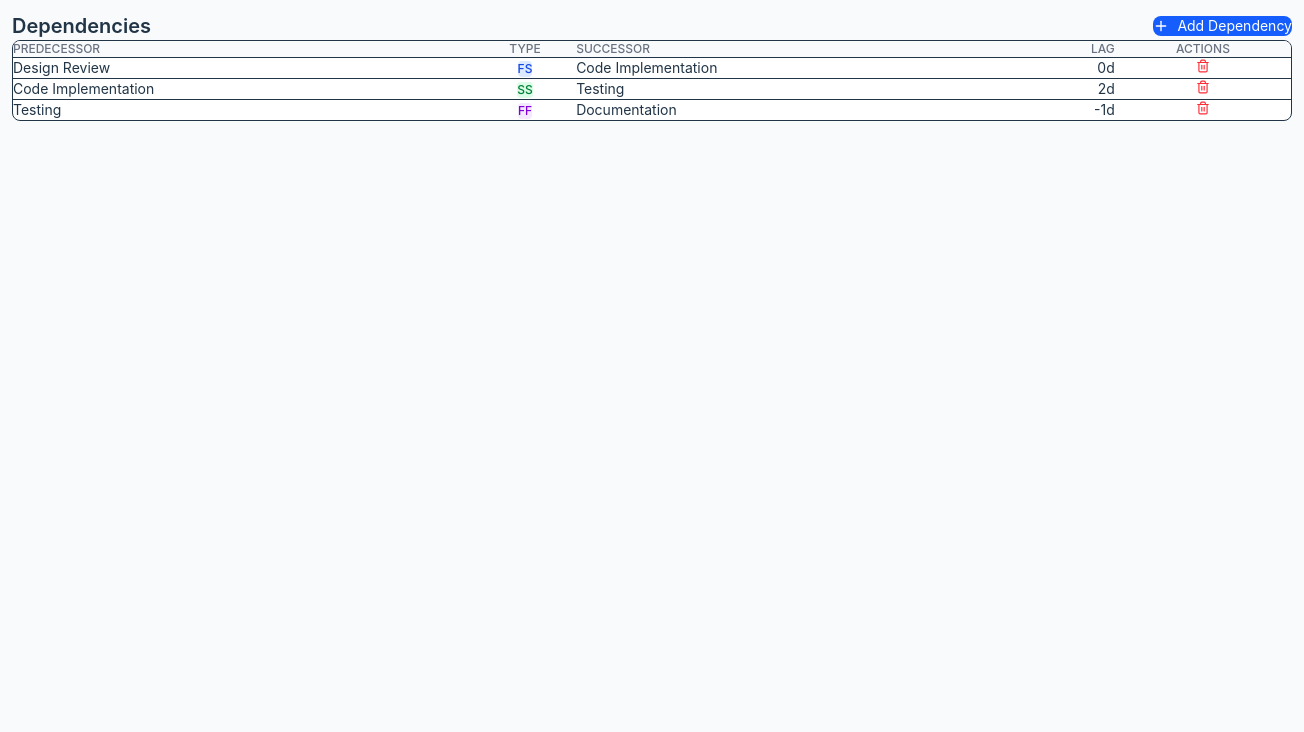
Test case: DependencyList › shows error toast when delete fails
Click the button named "Delete dependency" in the row of "Design Review": (1203, 66) [1196,59,1210,73]
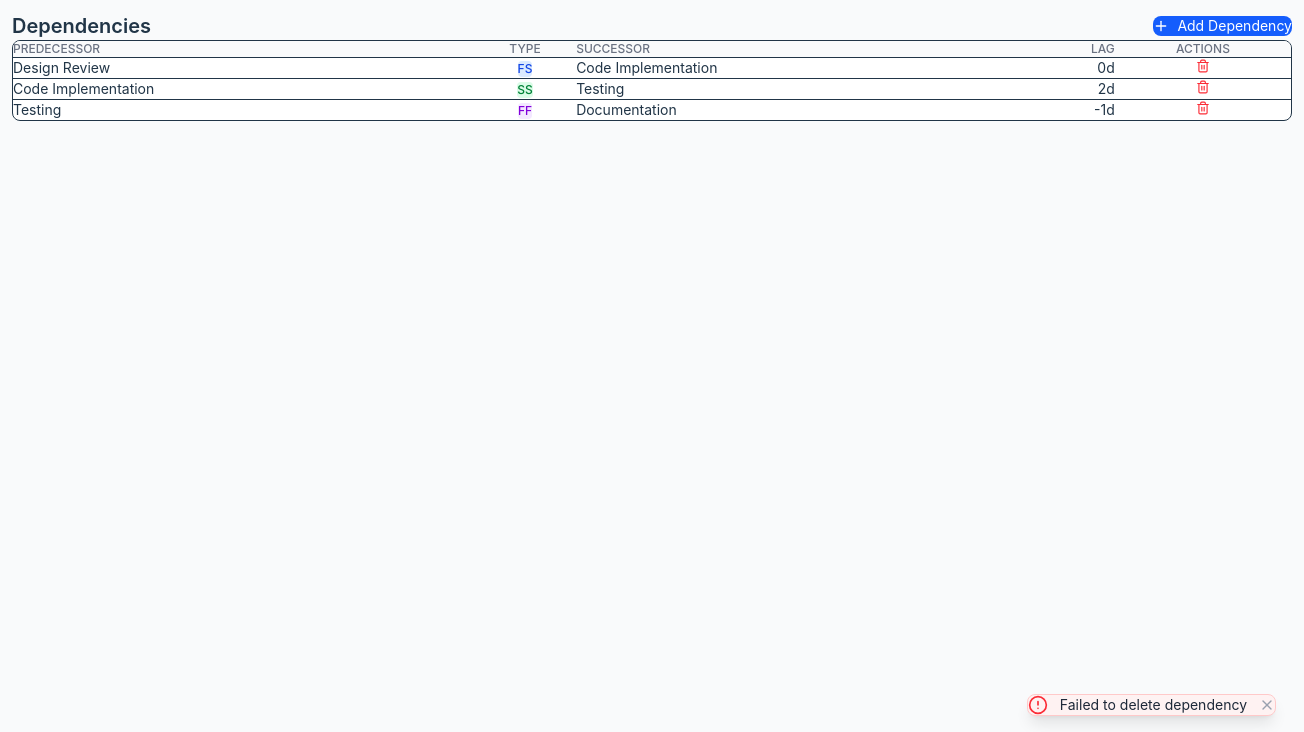
Expected: the text "Failed to delete dependency" is shown, [1060,695,1247,715]
